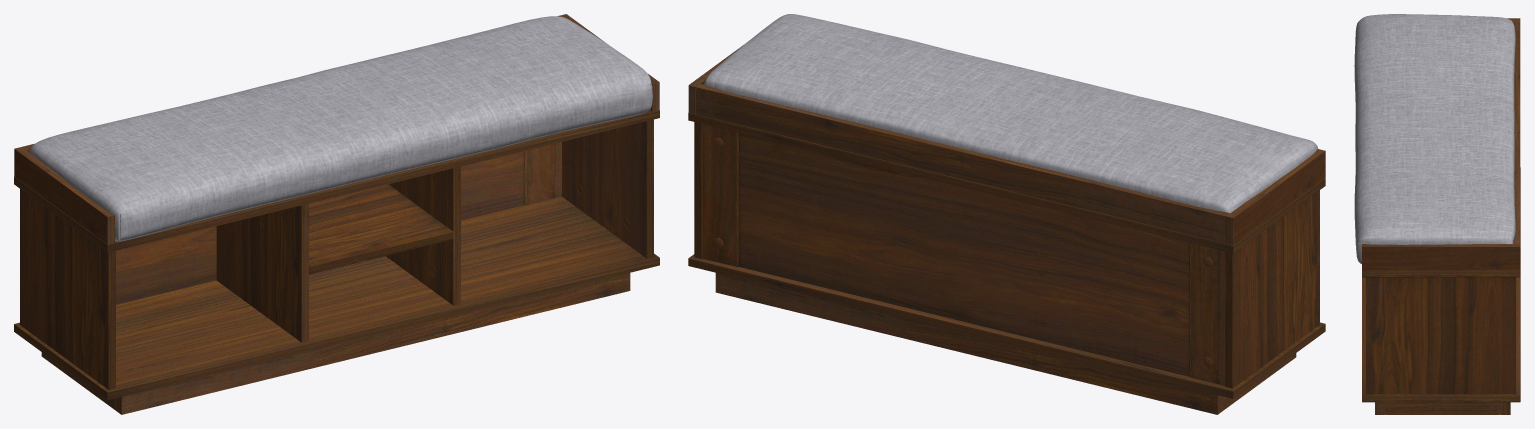
Rendered from sofa_B07DBB1S8N.glb.
3 renders of one model, left to right at view 1: azimuth 30°, elevation 25°; view 2: azimuth 150°, elevation 25°; view 3: azimuth 270°, elevation 25°, orthographic. The views are drawn at different scales.
Visible parts, largest first — view 1: RootNode; view 2: RootNode; view 3: RootNode.
Part boxes in pixels (x1=…): RootNode: x1=14, y1=14, x2=659, y2=414; RootNode: x1=688, y1=14, x2=1325, y2=414; RootNode: x1=1354, y1=14, x2=1520, y2=414.
Bounding box in the file's own units: 1.2 × 0.4676 × 0.3673.
1 material, 1 textured.
